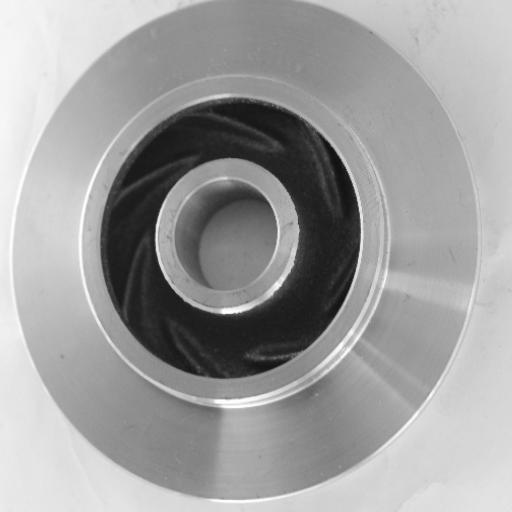polished_casting: (12, 0, 483, 503)
